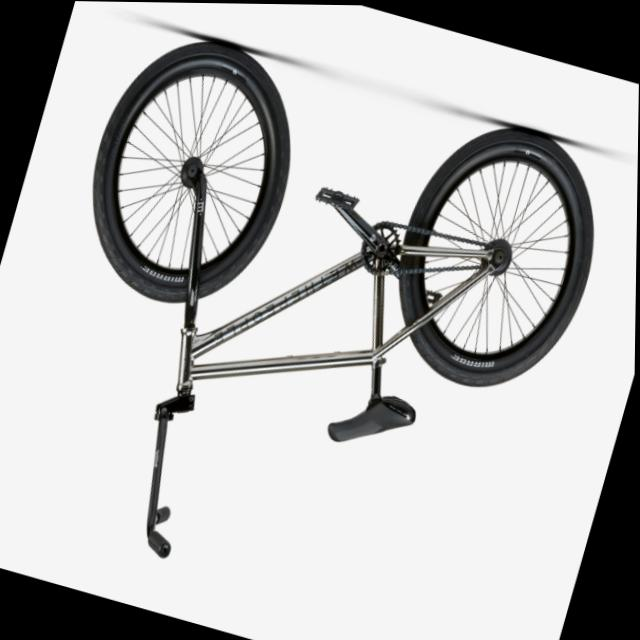bmx-bike: (0, 10, 627, 640)
